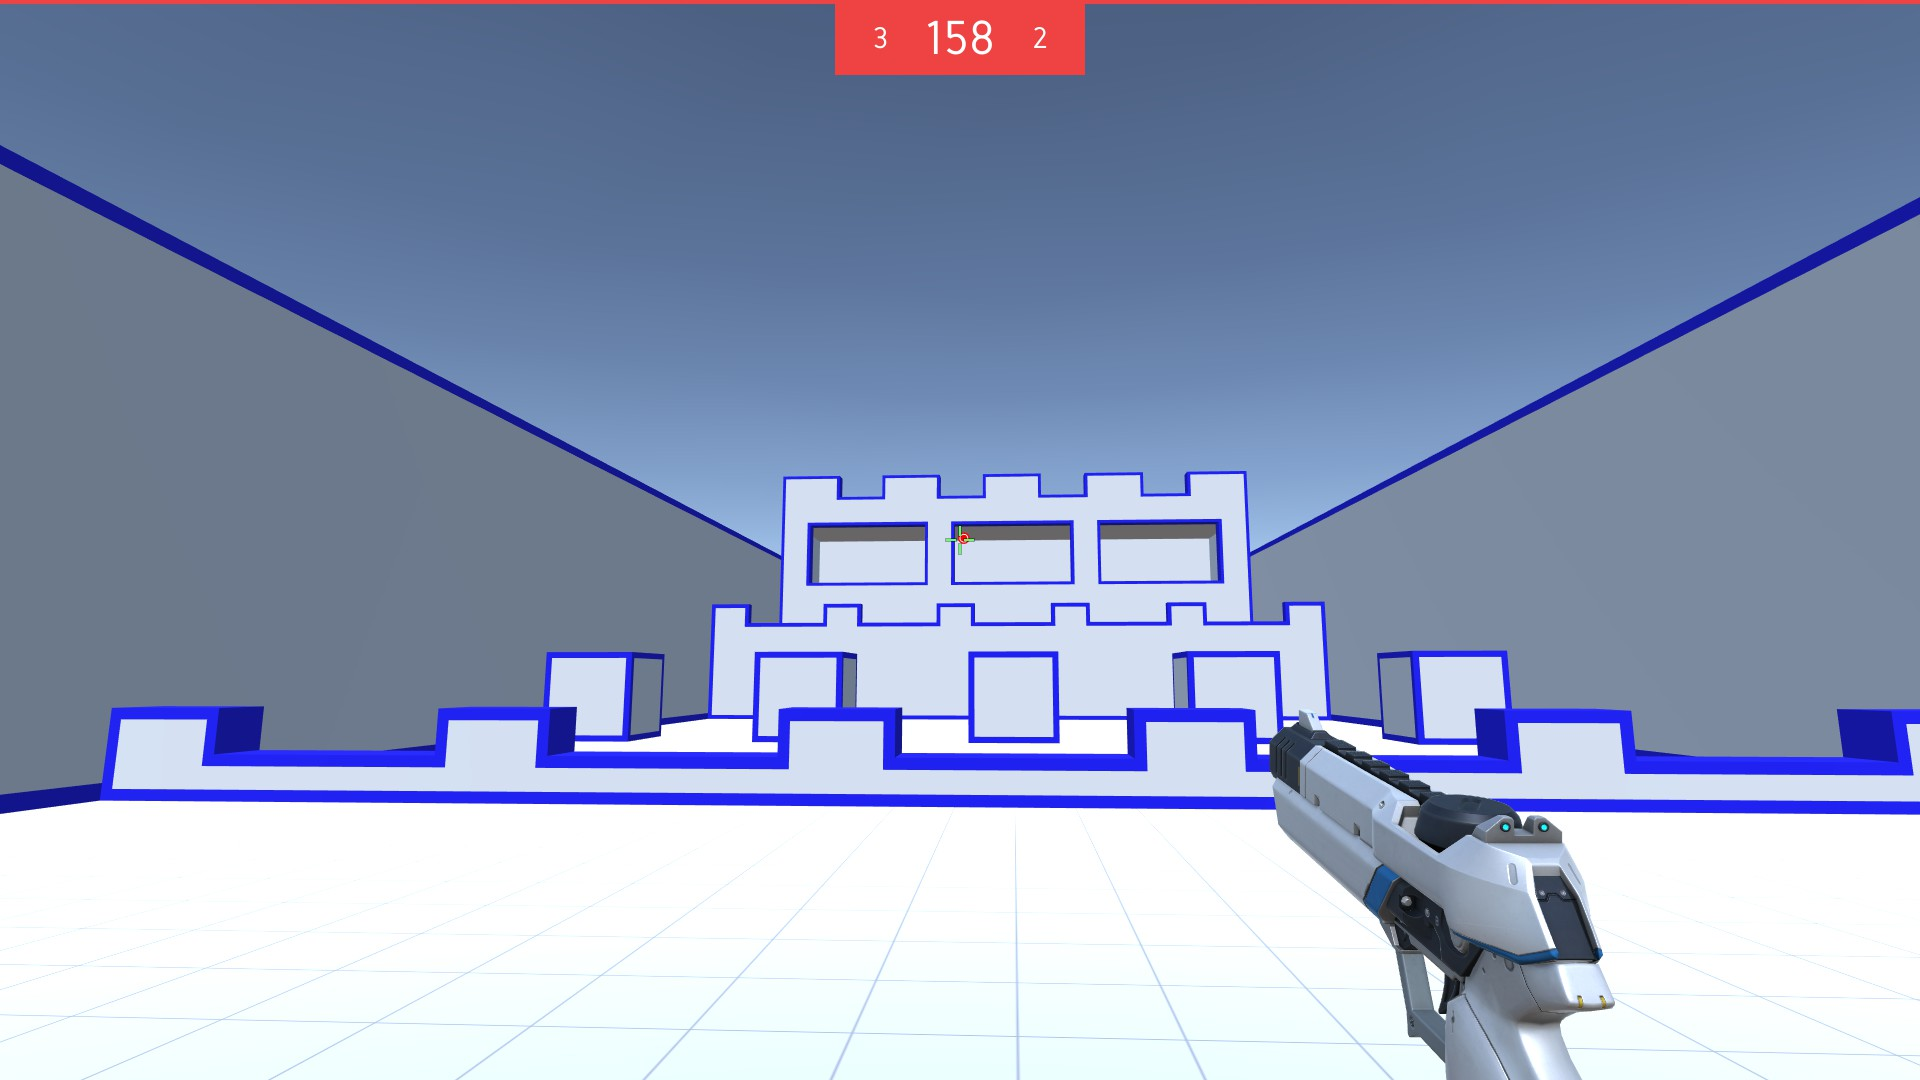target: (956, 531, 971, 546)
